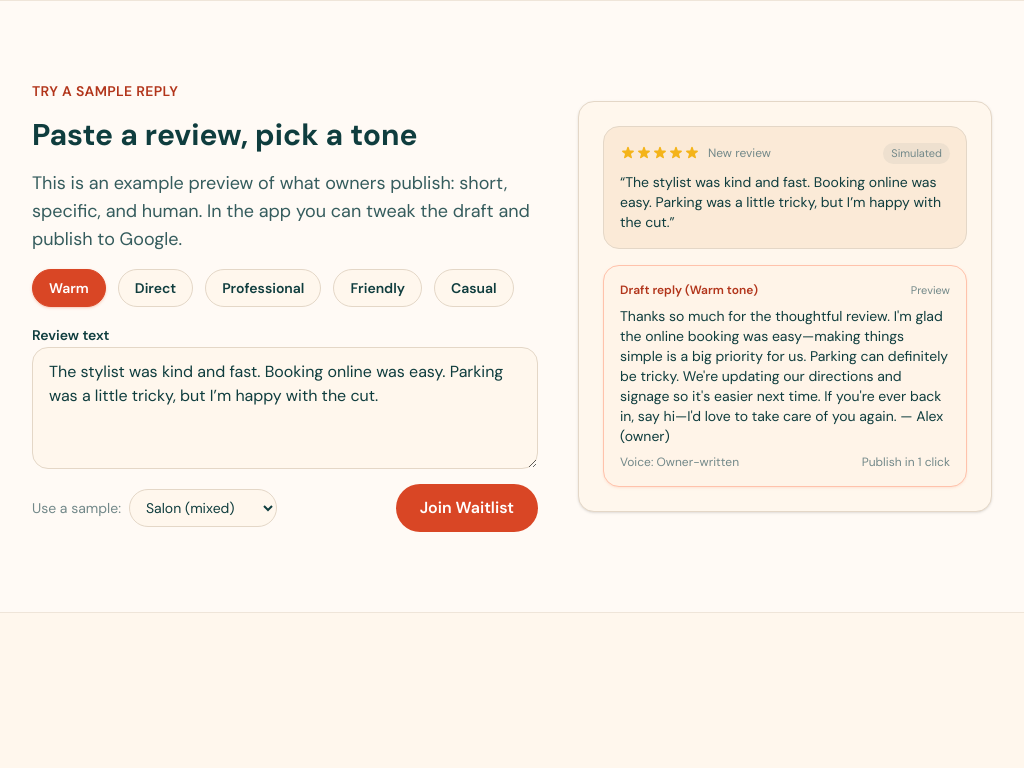
components/landing/LiveDemo › Tone selection › updates draft when tone changes to Direct
This screenshot has width=1024, height=768.
Expected: the text "Draft reply (Warm tone)" is shown, x1=620 y1=282 x2=758 y2=298
Click the button "Direct" at x=155, y=288, box x1=118 y1=269 x2=193 y2=307
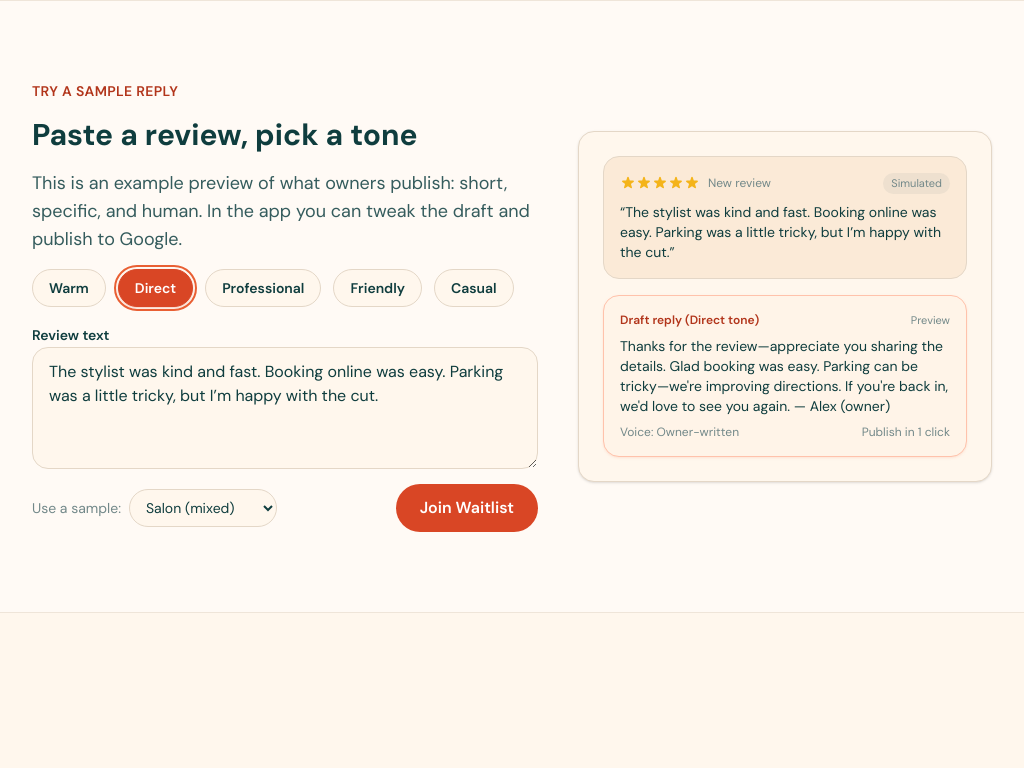
Expected: the text "Draft reply (Direct tone)" is shown, x1=620 y1=312 x2=759 y2=328
